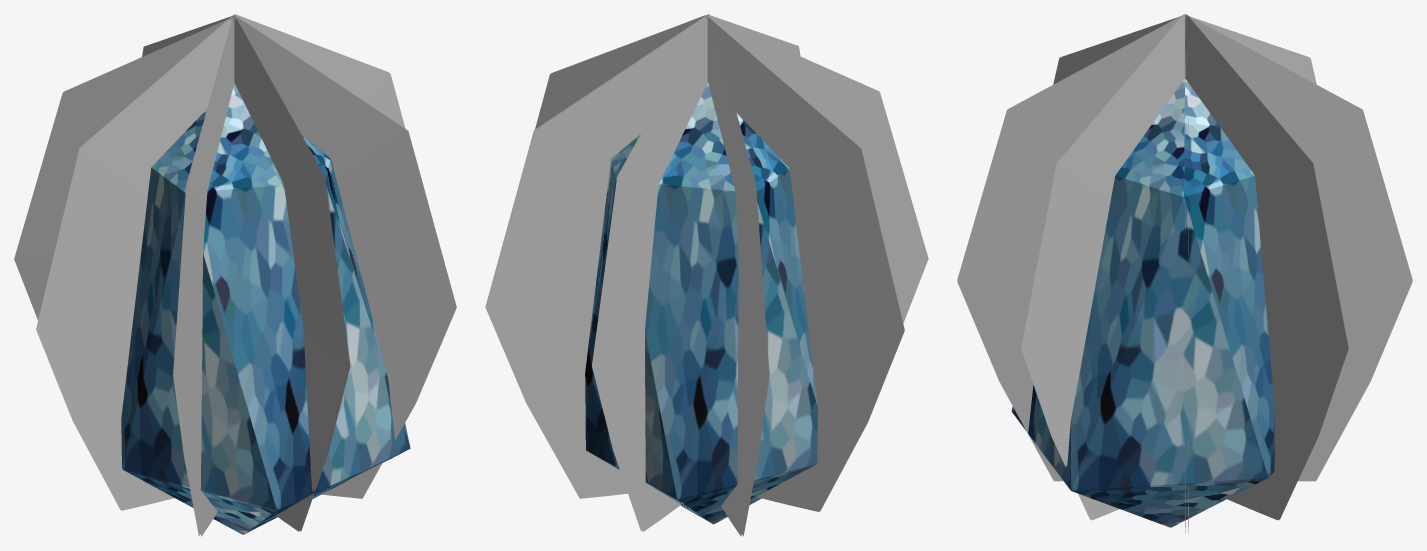
The model's file is Crystal.fbx.
3 renders of one model, left to right at view 1: azimuth 30°, elevation 25°; view 2: azimuth 150°, elevation 25°; view 3: azimuth 270°, elevation 25°, orthographic.
Visible parts, largest first — view 1: CrystalLight, Crystal; view 2: CrystalLight, Crystal; view 3: CrystalLight, Crystal.
Part boxes in pixels (x1=…): CrystalLight: x1=14, y1=14, x2=456, y2=536; Crystal: x1=121, y1=83, x2=410, y2=534; CrystalLight: x1=485, y1=14, x2=928, y2=536; Crystal: x1=585, y1=83, x2=817, y2=524; CrystalLight: x1=957, y1=14, x2=1412, y2=533; Crystal: x1=1011, y1=79, x2=1274, y2=527.
Size of the model in its own units: 206 by 255 by 206.
Materials: 2 (1 with a texture image).
